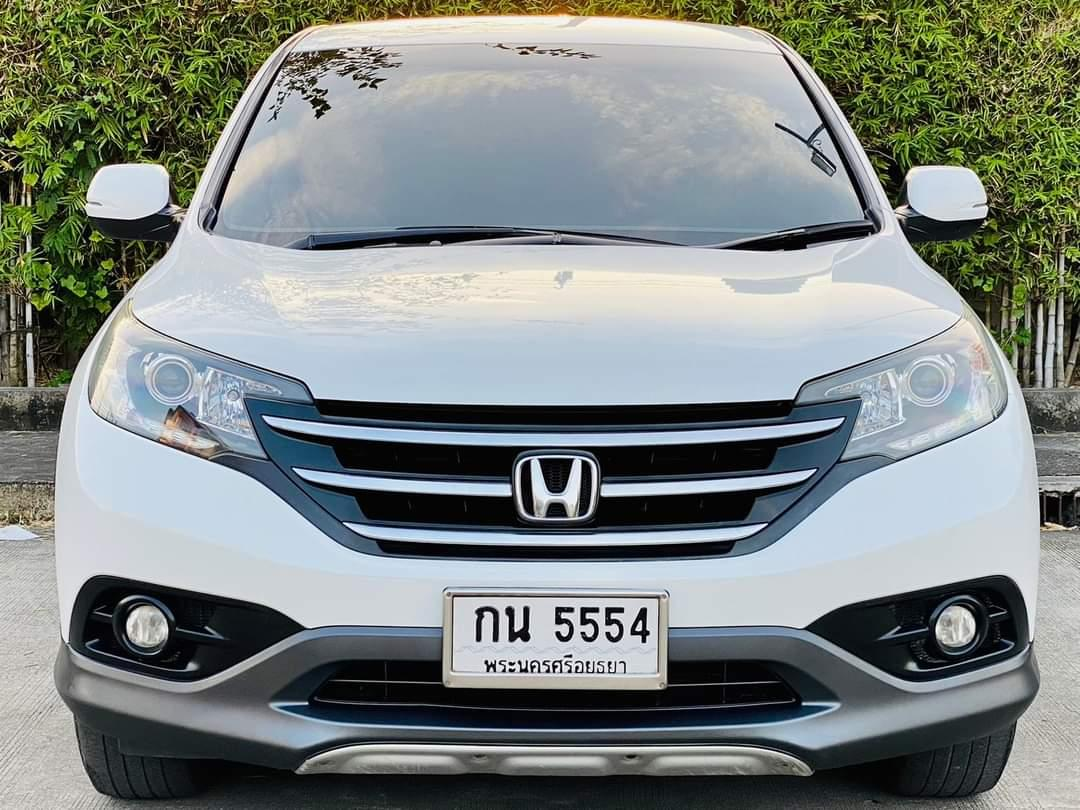license-plate: (440, 581, 671, 695)
